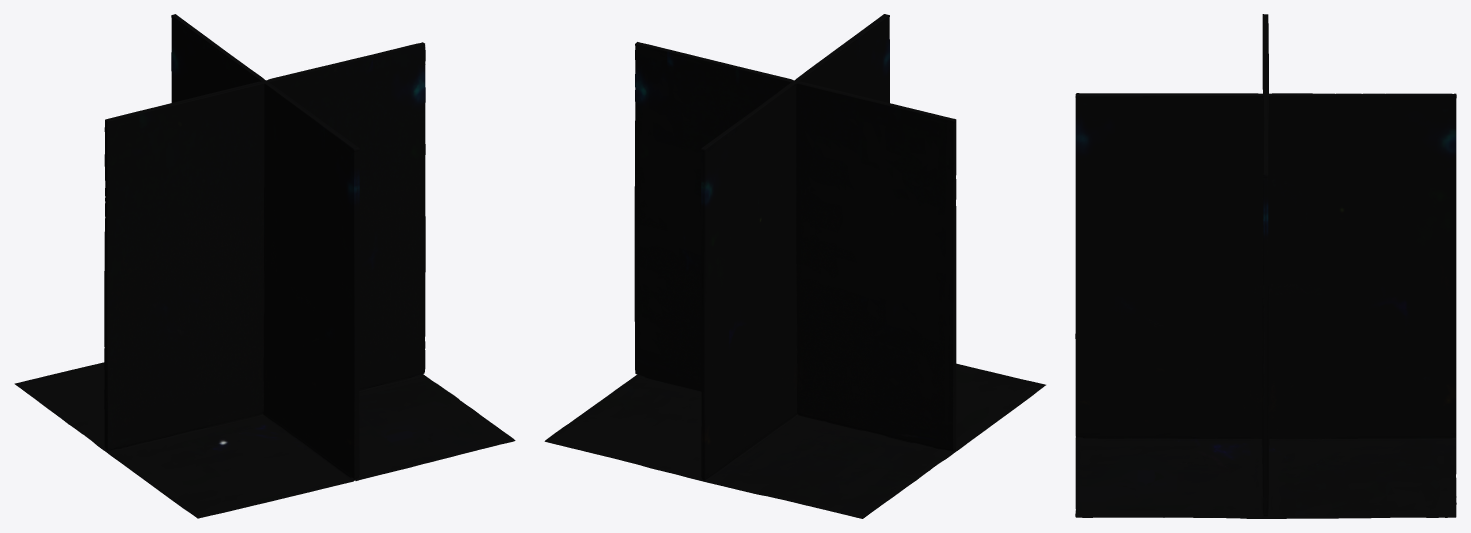
Rendered from env-crystal-castle-b.glb.
The picture shows the model from 3 angles, left to right: view 1: azimuth 30°, elevation 25°; view 2: azimuth 150°, elevation 25°; view 3: azimuth 270°, elevation 25°; orthographic projection. The views are drawn at different scales.
Parts seen in each view (by area): view 1: world; view 2: world; view 3: world.
Boxes of the visible parts, x1,y1,x2,y2 form: world: (14,14,515,518); world: (544,14,1045,518); world: (1075,14,1456,518).
Size of the model in its own units: 1 by 1 by 1.
1 material, 1 textured.
